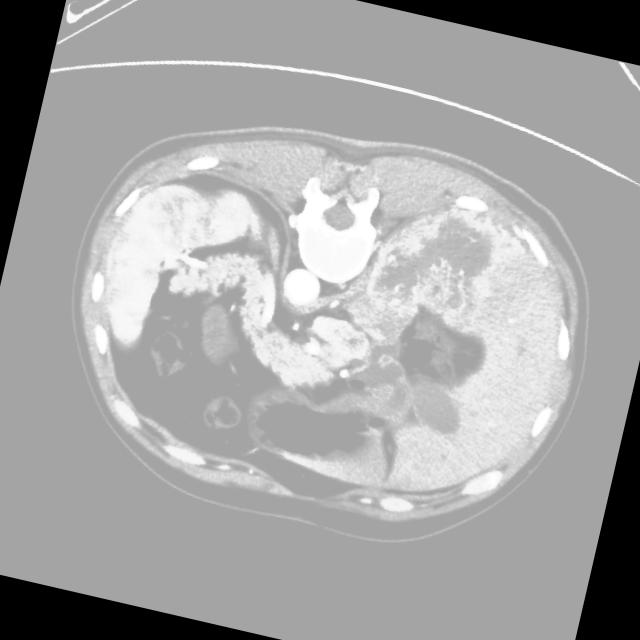TUMOR: (33, 162, 541, 556)
